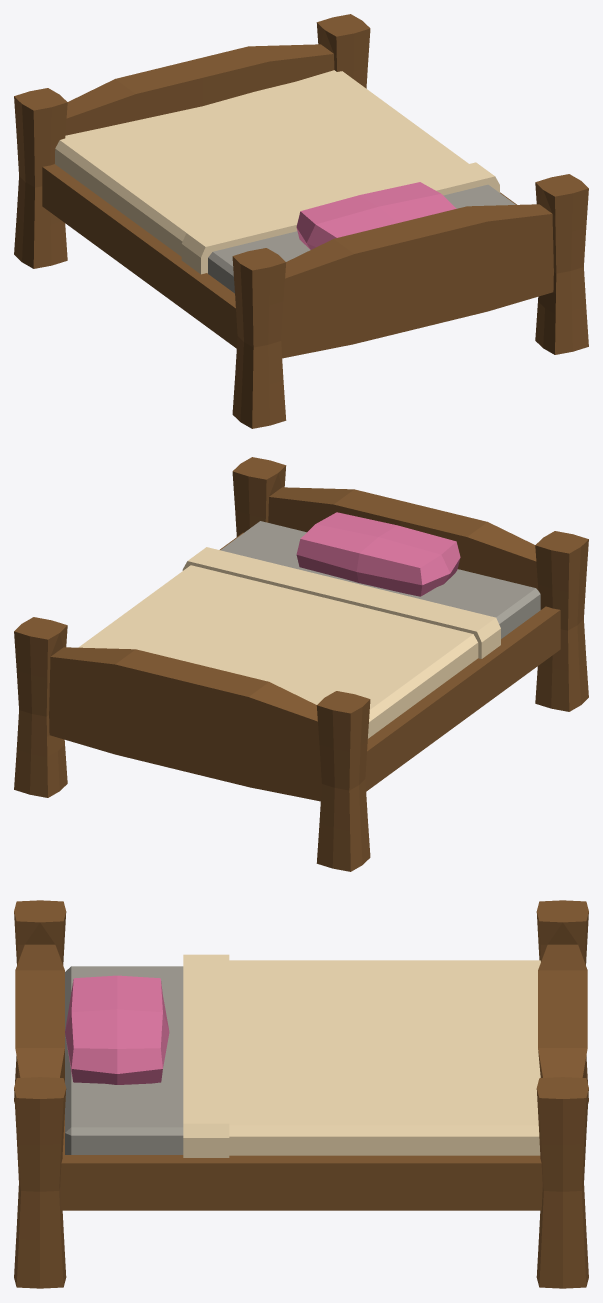
The model's file is Bad.fbx.
The picture shows the model from 3 angles, top to bottom: view 1: azimuth 30°, elevation 25°; view 2: azimuth 150°, elevation 25°; view 3: azimuth 270°, elevation 25°; orthographic projection. The views are drawn at different scales.
Visible parts, largest first — view 1: Cube, Cube.003, Cube.002, Cube.001; view 2: Cube, Cube.003, Cube.002, Cube.001; view 3: Cube.003, Cube, Cube.001, Cube.002.
Part boxes in pixels (left/top/right/bottom): Cube: left=14, top=14, right=588, bottom=428; Cube.003: left=55, top=70, right=499, bottom=274; Cube.002: left=296, top=182, right=456, bottom=249; Cube.001: left=208, top=184, right=515, bottom=293; Cube: left=14, top=457, right=588, bottom=871; Cube.003: left=78, top=547, right=500, bottom=738; Cube.002: left=296, top=512, right=460, bottom=596; Cube.001: left=220, top=521, right=540, bottom=638; Cube.003: left=183, top=954, right=540, bottom=1157; Cube: left=14, top=900, right=588, bottom=1288; Cube.001: left=65, top=966, right=183, bottom=1154; Cube.002: left=65, top=975, right=169, bottom=1084.
Bounding box in the file's own units: 900 × 400 × 1100.
